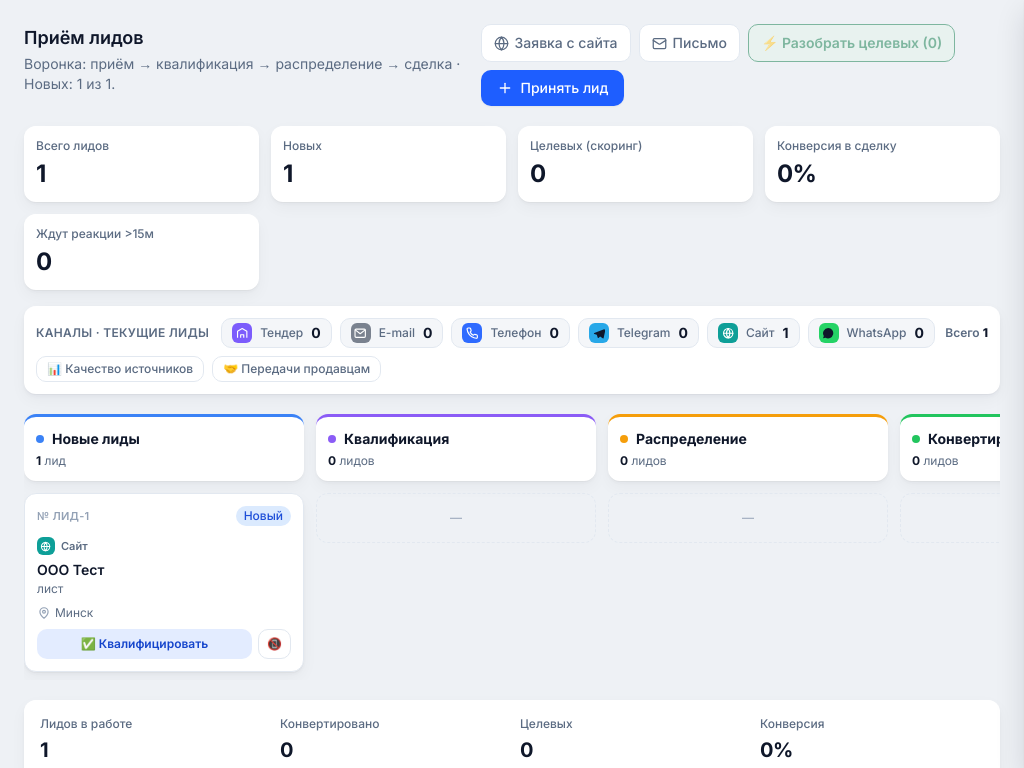
Test: LeadsWorkspace › квалификация обновляет балл, вердикт и показывает AI-обоснование
The image size is (1024, 768).
Click the text "№ ЛИД-1" at (63, 516), box [37,508,90,524]
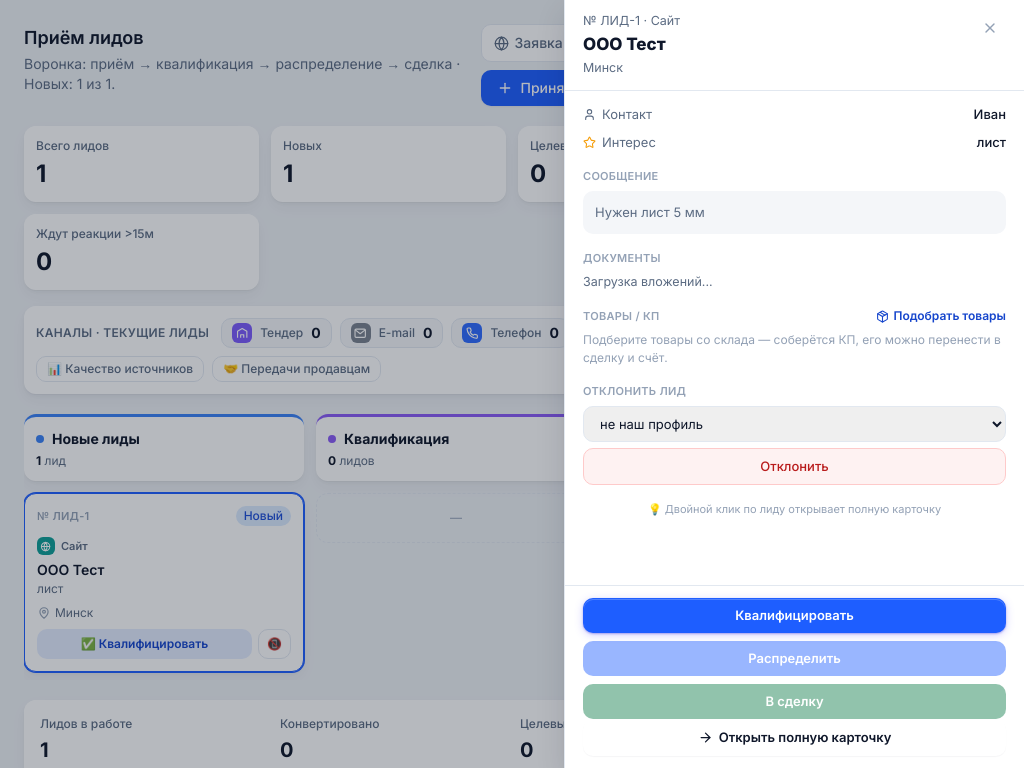
Click the button "Квалифицировать" at (794, 616), box [583,598,1006,633]
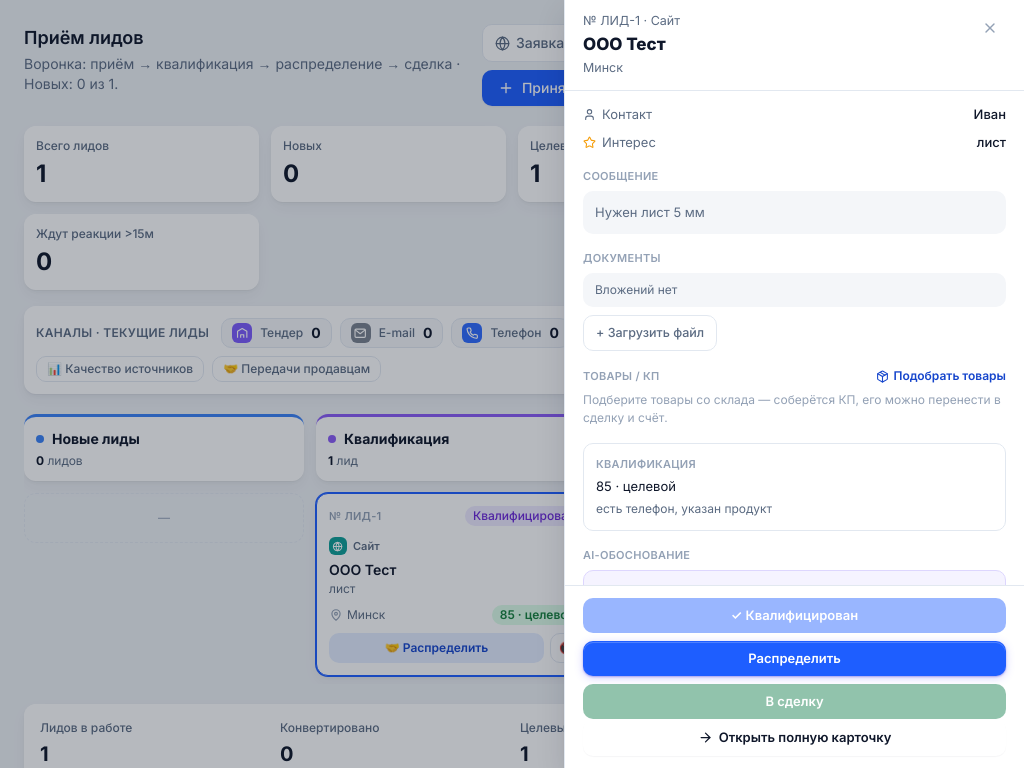
Expected: the 2nd text "85 · целевой" is shown, [492,605,583,625]
